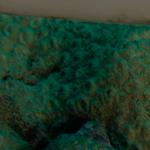dead: (1, 36, 132, 138)
